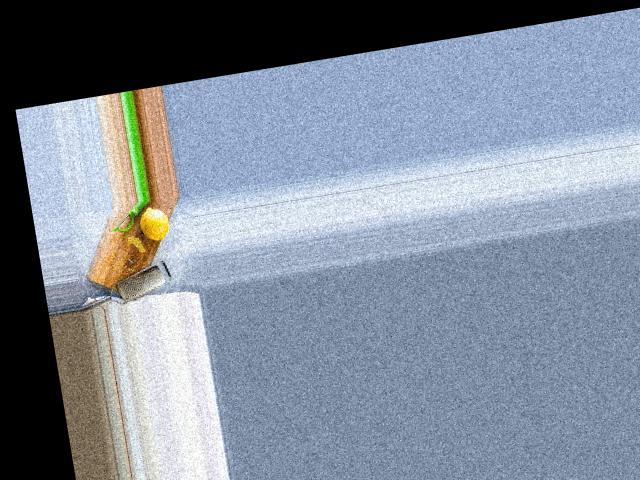lemon: (137, 204, 172, 242)
